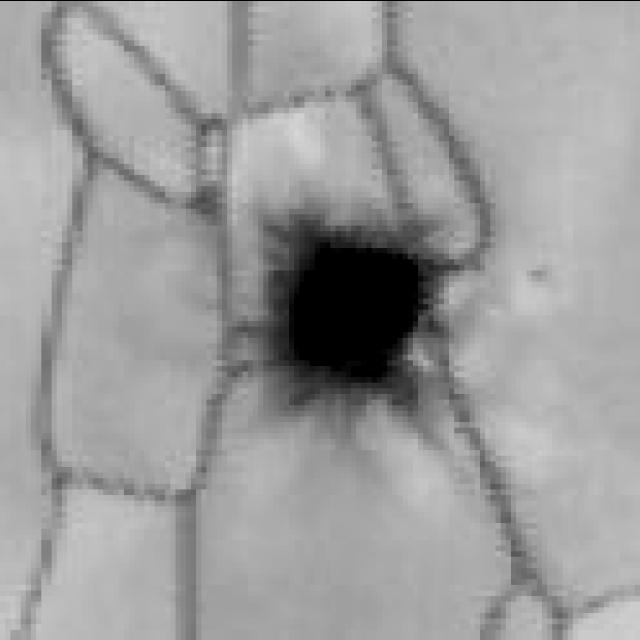good_void: (227, 205, 467, 412)
